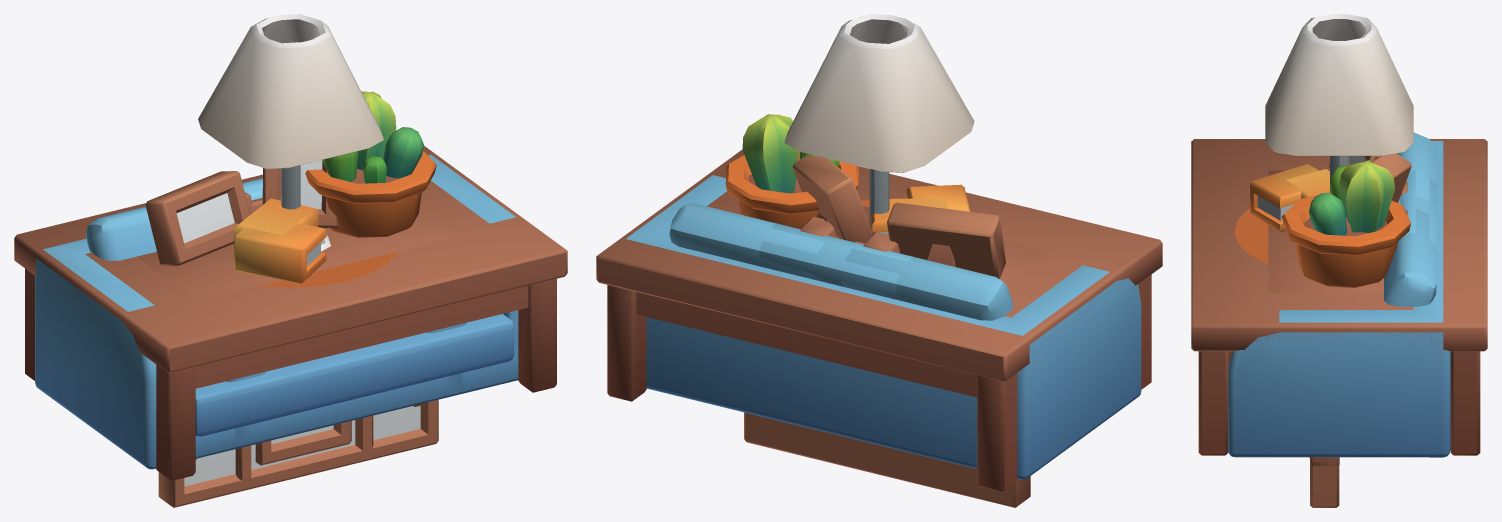
Rendered from salon.glb.
3 renders of one model, left to right at view 1: azimuth 30°, elevation 25°; view 2: azimuth 150°, elevation 25°; view 3: azimuth 270°, elevation 25°, orthographic. The views are drawn at different scales.
Parts seen in each view (by area): view 1: table_medium_long, couch, lamp_standing, cabinet_medium_decorated, pictureframe_large_B, armchair, cabinet_medium, cabinet_small_decorated, pictureframe_large_A, pictureframe_medium, table_round_A_small; view 2: couch, table_medium_long, lamp_standing, cabinet_medium_decorated, pictureframe_large_B, cabinet_small_decorated, armchair, pictureframe_large_A, cabinet_medium, chair_A; view 3: couch, table_medium_long, lamp_standing, cabinet_medium_decorated, cabinet_small_decorated, cabinet_medium, pictureframe_large_B, armchair, table_round_A_small.
Part boxes in pixels (x1=…): table_medium_long: x1=14, y1=146, x2=567, y2=480; couch: x1=35, y1=154, x2=518, y2=469; lamp_standing: x1=198, y1=14, x2=383, y2=209; cabinet_medium_decorated: x1=145, y1=91, x2=436, y2=266; pictureframe_large_B: x1=158, y1=399, x2=438, y2=507; armchair: x1=227, y1=178, x2=466, y2=449; cabinet_medium: x1=137, y1=208, x2=458, y2=300; cabinet_small_decorated: x1=234, y1=160, x2=339, y2=283; pictureframe_large_A: x1=235, y1=415, x2=373, y2=489; pictureframe_medium: x1=255, y1=421, x2=351, y2=465; table_round_A_small: x1=259, y1=252, x2=397, y2=287; couch: x1=626, y1=175, x2=1141, y2=479; table_medium_long: x1=596, y1=149, x2=1162, y2=491; lamp_standing: x1=784, y1=14, x2=974, y2=233; cabinet_medium_decorated: x1=725, y1=114, x2=1005, y2=279; pictureframe_large_B: x1=744, y1=412, x2=1030, y2=507; cabinet_small_decorated: x1=792, y1=155, x2=970, y2=243; armchair: x1=704, y1=223, x2=936, y2=458; pictureframe_large_A: x1=812, y1=429, x2=945, y2=488; cabinet_medium: x1=863, y1=206, x2=1050, y2=284; chair_A: x1=800, y1=216, x2=900, y2=253; couch: x1=1228, y1=132, x2=1450, y2=457; table_medium_long: x1=1191, y1=139, x2=1487, y2=455; lamp_standing: x1=1265, y1=14, x2=1413, y2=191; cabinet_medium_decorated: x1=1281, y1=156, x2=1410, y2=287; cabinet_small_decorated: x1=1250, y1=153, x2=1411, y2=231; cabinet_medium: x1=1268, y1=170, x2=1383, y2=292; pictureframe_large_B: x1=1310, y1=457, x2=1339, y2=507; armchair: x1=1400, y1=170, x2=1436, y2=246; table_round_A_small: x1=1234, y1=208, x2=1444, y2=263.
Size of the model in its own units: 3 by 3.12 by 2.
Materials: 4 (4 with a texture image).
